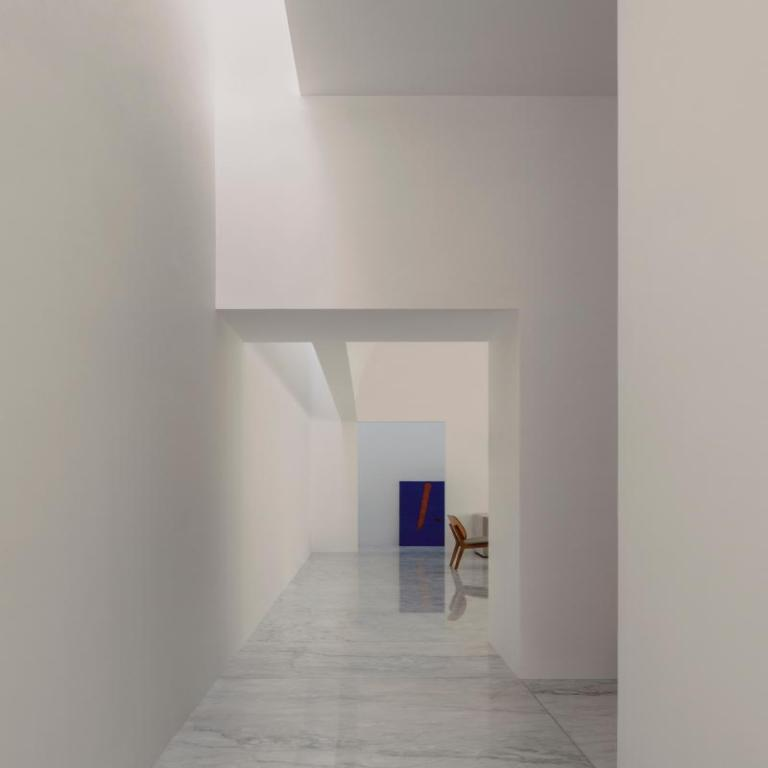white-walls: (46, 27, 749, 743)
